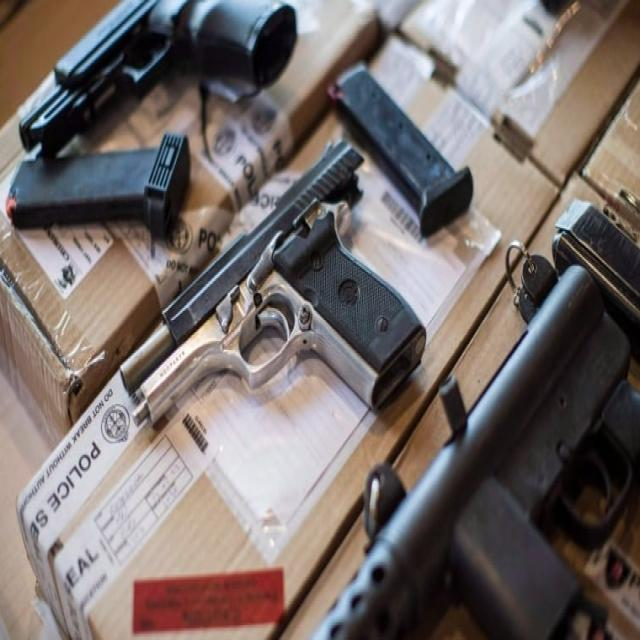Weapon: (310, 266, 640, 640), (133, 141, 424, 424), (20, 0, 296, 156)
